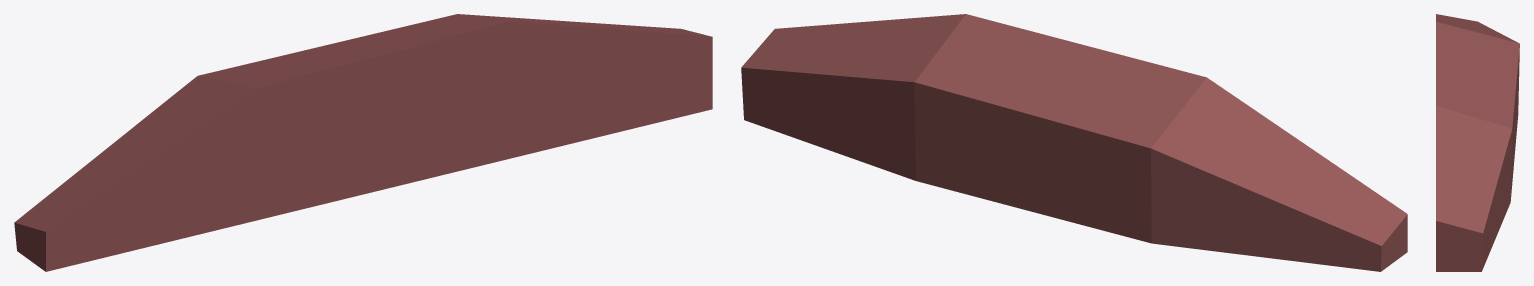
The model's file is tunaTopHalfNoSkin.fbx.
3 renders of one model, left to right at view 1: azimuth 30°, elevation 25°; view 2: azimuth 150°, elevation 25°; view 3: azimuth 270°, elevation 25°, orthographic. The views are drawn at different scales.
Visible parts, largest first — view 1: tunaTopHalfNoSkin; view 2: tunaTopHalfNoSkin; view 3: tunaTopHalfNoSkin.
Boxes of the visible parts, left/top/right/bottom form: tunaTopHalfNoSkin: left=14, top=14, right=712, bottom=271; tunaTopHalfNoSkin: left=741, top=14, right=1407, bottom=271; tunaTopHalfNoSkin: left=1436, top=14, right=1519, bottom=271.
Size of the model in its own units: 59.53 by 11.64 by 9.13.
1 material, 1 textured.
